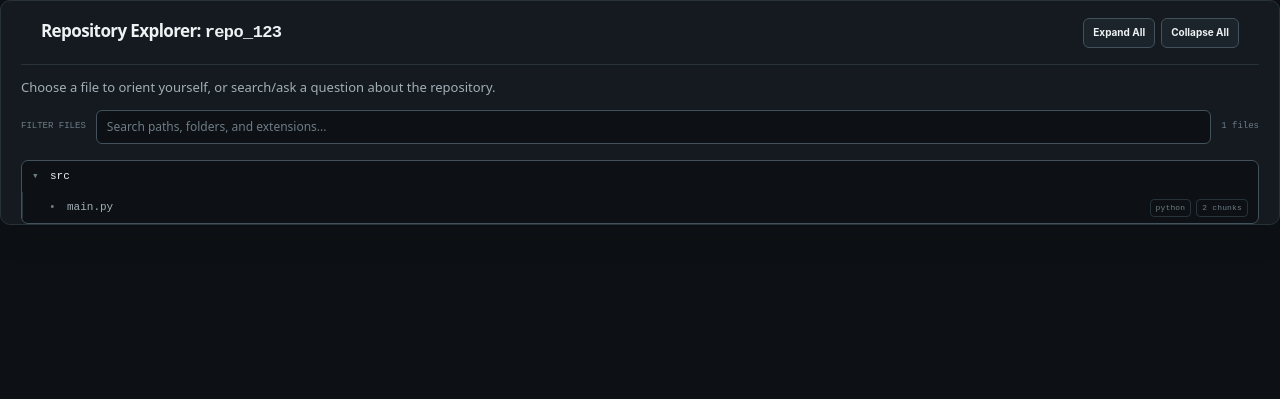
Test: RepoExplorerPanel - Component Integration & State Tests › selecting a file requests the correct repository ID and path and renders content with line numbers
What coordinates should you click on to do the following:
click the text "main.py"
I would click on:
 (90, 208)
Its box is x1=67 y1=199 x2=113 y2=216.
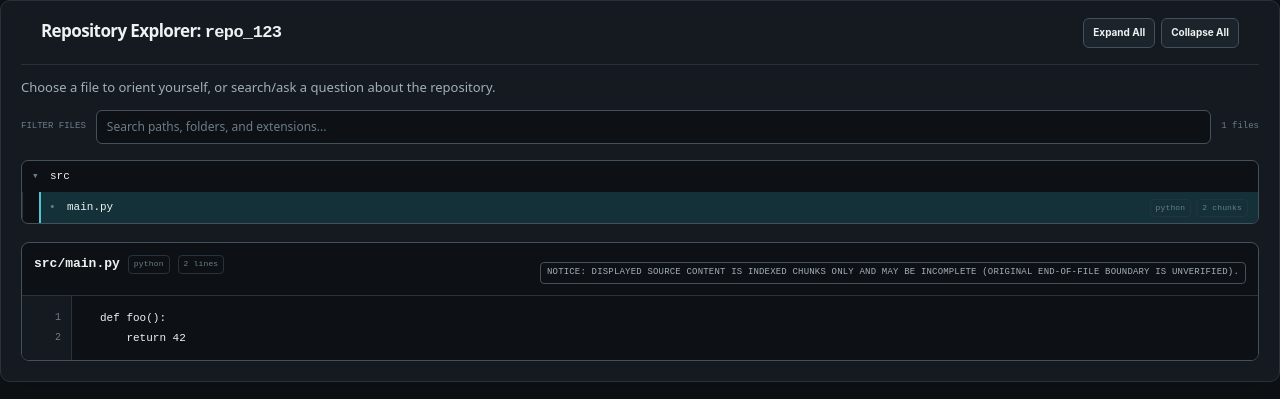
Expected: the element with test id "code-viewer-container" is shown, x1=21 y1=242 x2=1259 y2=361
Expected: the text "def foo():" is shown, x1=100 y1=312 x2=166 y2=324
Expected: the text "return 42" is shown, x1=100 y1=332 x2=186 y2=344
